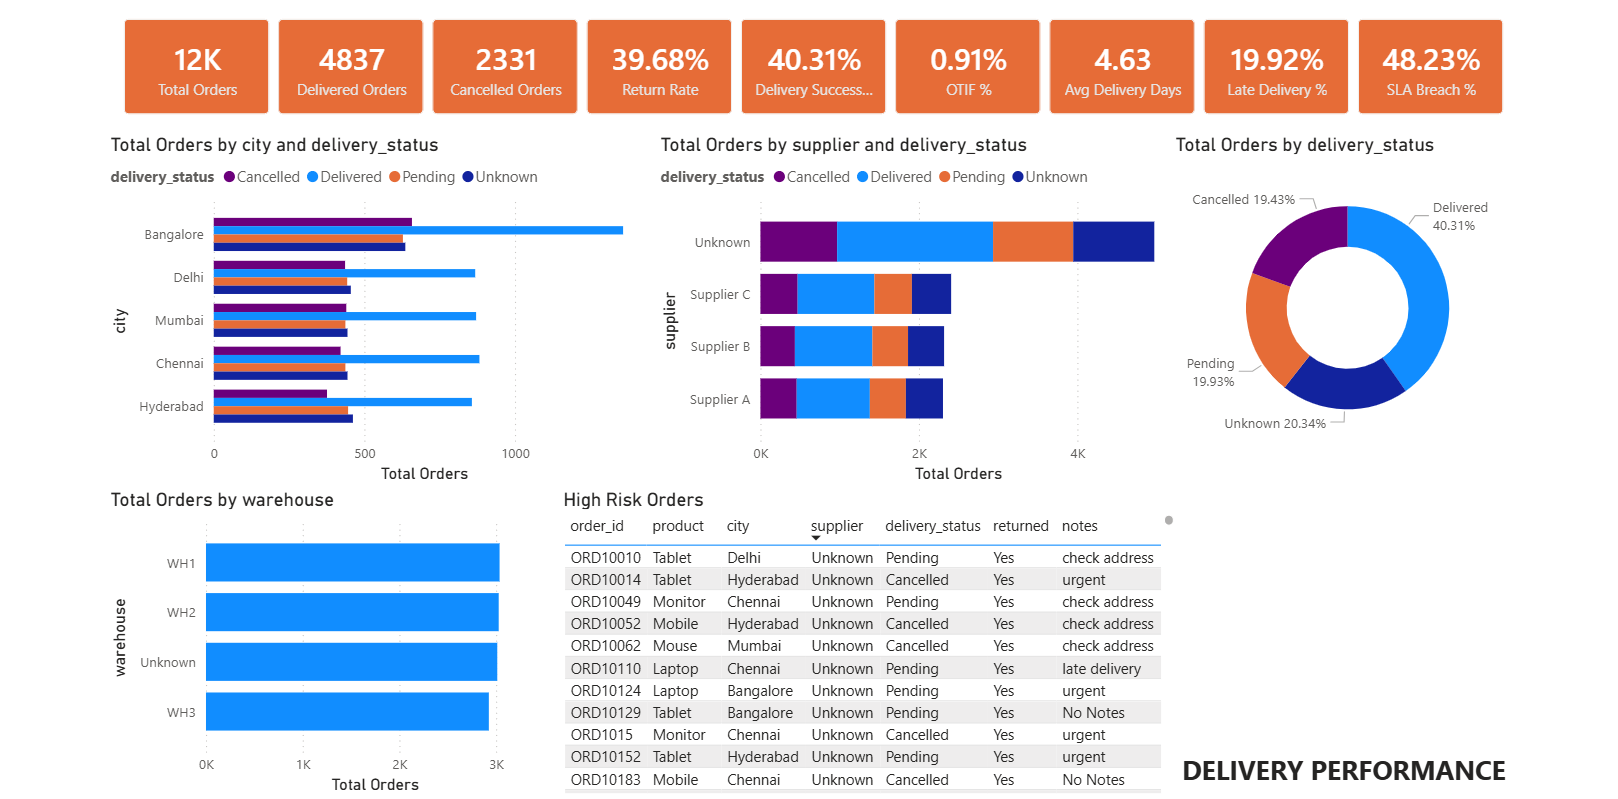

This screenshot's page, from the dashboard's own definition file:
{"tool":"powerbi","page":{"name":"DELIVERY PERFORMANCE ","canvas":[1280,720],"ordinal":1},"visuals":[{"type":"clusteredBarChart","fields":{"Category":["supply_chain_data_cleaned.city"],"Series":["supply_chain_data_cleaned.delivery_status"],"Y":["all_measures.Total Orders"]},"box":[0,120,496,320],"z":0},{"type":"cardVisual","fields":{"Data":["all_measures.Total Orders","all_measures.Delivered Orders","all_measures.Cancelled Orders","all_measures.Return Rate","all_measures.Delivery Success Rate","all_measures.OTIF %","all_measures.Avg Delivery Days","all_measures.Late Delivery %","all_measures.SLA Breach %"]},"box":[0,0,1280,120],"z":1000},{"type":"barChart","fields":{"Category":["supply_chain_data_cleaned.supplier"],"Y":["all_measures.Total Orders"],"Series":["supply_chain_data_cleaned.delivery_status"]},"box":[496,120,464,320],"z":2000},{"type":"donutChart","fields":{"Category":["supply_chain_data_cleaned.delivery_status"],"Y":["all_measures.Total Orders"]},"box":[960,120,320,296],"z":3000},{"type":"clusteredBarChart","fields":{"Category":["supply_chain_data_cleaned.warehouse"],"Y":["all_measures.Total Orders"]},"box":[0,440,408,280],"z":4000},{"type":"tableEx","title":"High Risk Orders","fields":{"Values":["supply_chain_data_cleaned.order_id","supply_chain_data_cleaned.product","supply_chain_data_cleaned.city","supply_chain_data_cleaned.supplier","supply_chain_data_cleaned.delivery_status","supply_chain_data_cleaned.returned","supply_chain_data_cleaned.notes"]},"box":[408,440,560,280],"z":5000},{"type":"textbox","box":[960,672,320,48],"z":5001}]}

Visuals, with their boxes on the page's 1280x720 design canvas (x1, y1, x2, y2). These are canvas units, not pixel positions in the 1618x799 screenshot, which may show the page scaled, cropped or inside an application window:
clusteredBarChart - supply_chain_data_cleaned.city x supply_chain_data_cleaned.delivery_status: {"x1": 0, "y1": 120, "x2": 496, "y2": 440}
cardVisual - all_measures.Total Orders x all_measures.Delivered Orders: {"x1": 0, "y1": 0, "x2": 1280, "y2": 120}
barChart - supply_chain_data_cleaned.supplier x all_measures.Total Orders: {"x1": 496, "y1": 120, "x2": 960, "y2": 440}
donutChart - supply_chain_data_cleaned.delivery_status x all_measures.Total Orders: {"x1": 960, "y1": 120, "x2": 1280, "y2": 416}
clusteredBarChart - supply_chain_data_cleaned.warehouse x all_measures.Total Orders: {"x1": 0, "y1": 440, "x2": 408, "y2": 720}
"High Risk Orders" tableEx: {"x1": 408, "y1": 440, "x2": 968, "y2": 720}
textbox: {"x1": 960, "y1": 672, "x2": 1280, "y2": 720}
